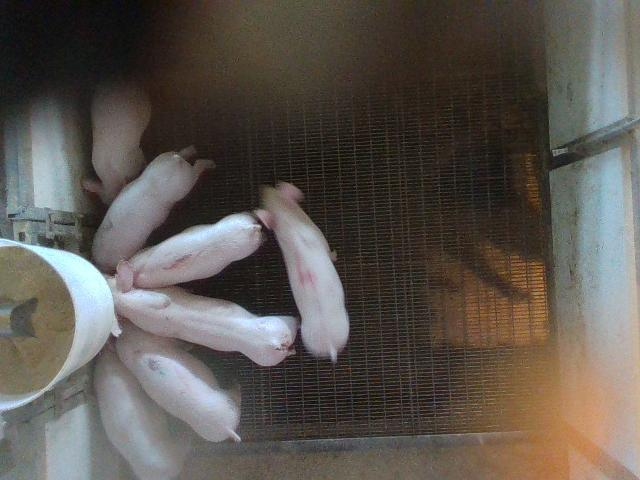pig-4: (256, 182, 349, 362)
pig-5: (129, 212, 264, 288)
